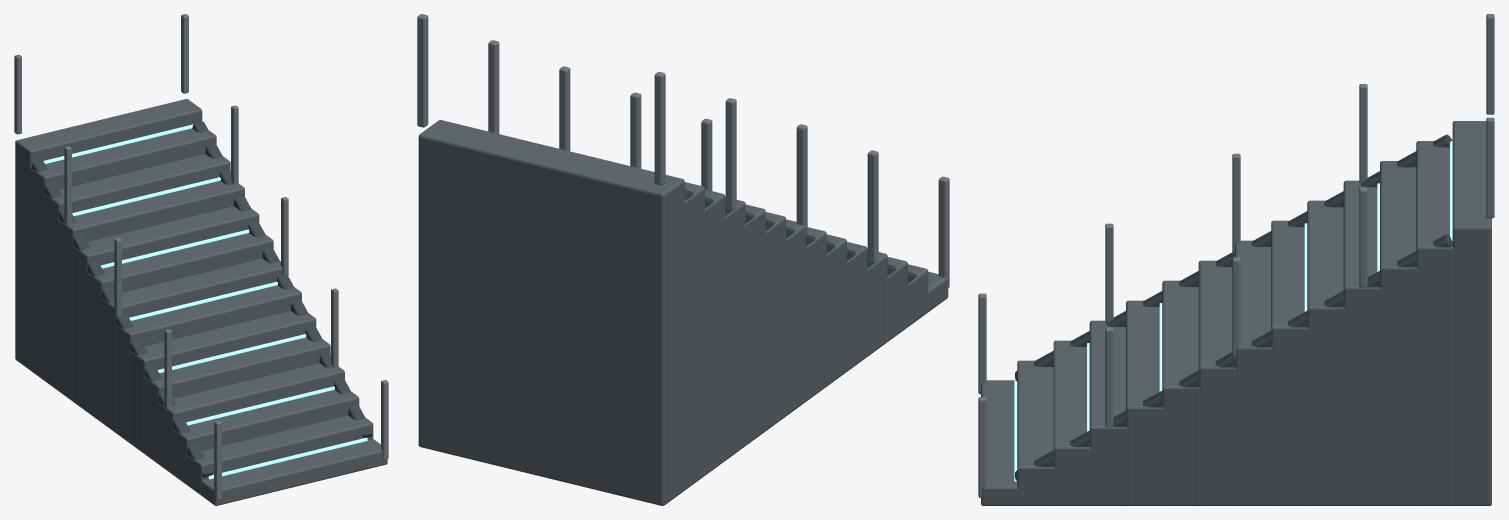
Rendered from StairFlight_A.fbx.
3 views of the same model, side by side, from view 1: azimuth 30°, elevation 25°; view 2: azimuth 150°, elevation 25°; view 3: azimuth 270°, elevation 25° (orthographic). The views are drawn at different scales.
Visible parts, largest first — view 1: Stair Tread.013, Stair Tread.012, Stair Tread.010, Stair Tread.011, Stair Tread.008, Stair Tread.009, Stair Tread.006, Stair Tread.007, Stair Tread.004, Stair Tread.005, Stair Tread.003, Stair Tread.002 (+21 smaller); view 2: Stair Tread.013, Stair Tread.012, Stair Tread.011, Stair Tread.010, Stair Tread.009, Stair Tread.008, Stair Tread.007, Stair Tread.006, Stair Tread.005, Stair Tread.004, Stair Tread.003, Stair Tread.002 (+13 smaller); view 3: Stair Tread.013, Stair Tread.012, Stair Tread.011, Stair Tread.009, Stair Tread.010, Stair Tread.008, Stair Tread.007, Stair Tread.006, Stair Tread.005, Stair Tread.004, Stair Tread.003, Stair Tread.002 (+14 smaller).
Part boxes in pixels (x1=…): Stair Tread.013: x1=15, y1=99, x2=202, y2=369; Stair Tread.012: x1=29, y1=128, x2=216, y2=380; Stair Tread.010: x1=58, y1=180, x2=244, y2=401; Stair Tread.011: x1=44, y1=154, x2=230, y2=390; Stair Tread.008: x1=86, y1=233, x2=273, y2=421; Stair Tread.009: x1=72, y1=206, x2=259, y2=411; Stair Tread.006: x1=115, y1=285, x2=301, y2=442; Stair Tread.007: x1=101, y1=258, x2=282, y2=432; Stair Tread.004: x1=143, y1=337, x2=330, y2=463; Stair Tread.005: x1=129, y1=311, x2=316, y2=453; Stair Tread.003: x1=158, y1=363, x2=344, y2=474; Stair Tread.002: x1=172, y1=390, x2=359, y2=484; Stair Tread.013: x1=418, y1=120, x2=684, y2=505; Stair Tread.012: x1=684, y1=182, x2=704, y2=490; Stair Tread.011: x1=704, y1=189, x2=725, y2=475; Stair Tread.010: x1=725, y1=197, x2=745, y2=460; Stair Tread.009: x1=745, y1=204, x2=765, y2=446; Stair Tread.008: x1=765, y1=212, x2=785, y2=431; Stair Tread.007: x1=785, y1=219, x2=806, y2=416; Stair Tread.006: x1=806, y1=227, x2=826, y2=401; Stair Tread.005: x1=826, y1=234, x2=846, y2=386; Stair Tread.004: x1=846, y1=242, x2=867, y2=371; Stair Tread.003: x1=867, y1=249, x2=887, y2=356; Stair Tread.002: x1=887, y1=257, x2=907, y2=342; Stair Tread.013: x1=1452, y1=121, x2=1491, y2=505; Stair Tread.012: x1=1416, y1=141, x2=1454, y2=505; Stair Tread.011: x1=1380, y1=161, x2=1417, y2=505; Stair Tread.009: x1=1307, y1=200, x2=1345, y2=505; Stair Tread.010: x1=1343, y1=180, x2=1381, y2=505; Stair Tread.008: x1=1271, y1=220, x2=1308, y2=505; Stair Tread.007: x1=1235, y1=240, x2=1272, y2=505; Stair Tread.006: x1=1198, y1=260, x2=1236, y2=505; Stair Tread.005: x1=1162, y1=280, x2=1200, y2=505; Stair Tread.004: x1=1126, y1=300, x2=1163, y2=505; Stair Tread.003: x1=1089, y1=320, x2=1127, y2=505; Stair Tread.002: x1=1053, y1=340, x2=1091, y2=505.
Size of the model in its own units: 2.8 by 4.7 by 5.69.
